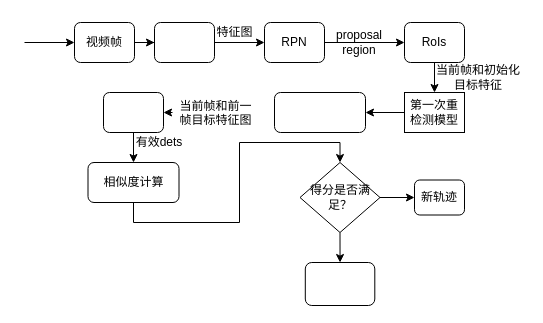
Some shapes in this 543 by 323 pixel diagram are drawn without their labels. The centre of each missing label's shape, as x and y in pixels:
"backbone" goes at [184,42].
"扩容对应det至已有跟踪轨迹序列中" goes at [339,284].
"第二次重检测" goes at [133,112].
"预测框回归和相似度计算" goes at [320,112].
